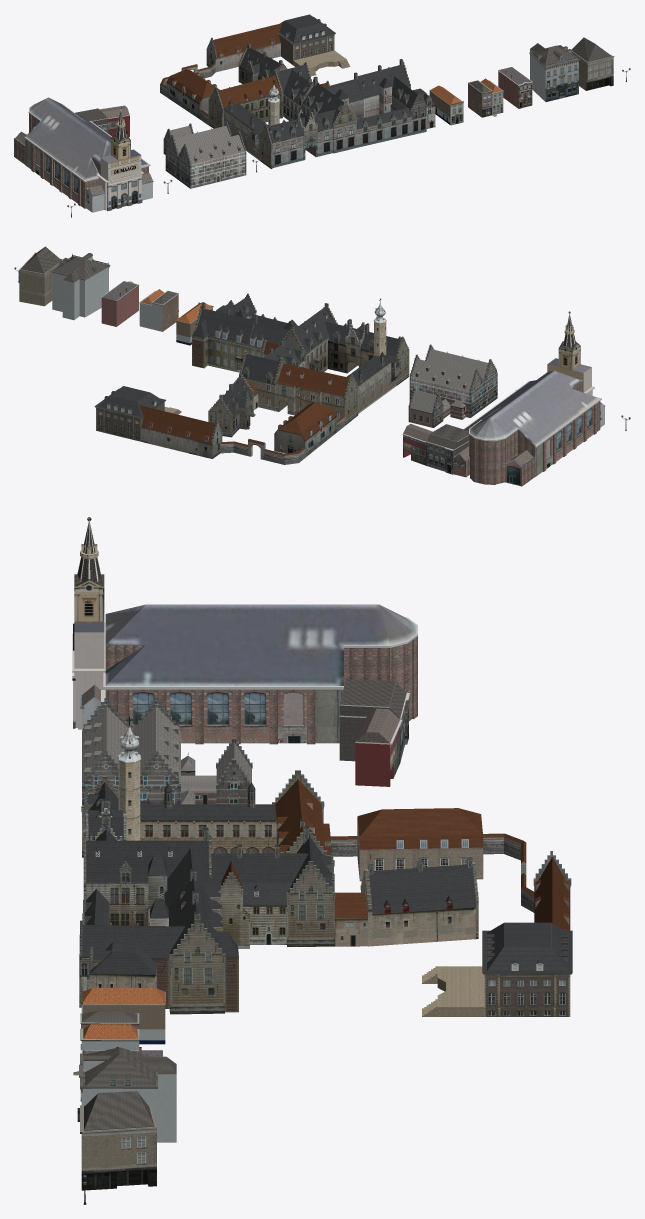
Rendered from european_buildings_asset_pack_1.glb.
The picture shows the model from 3 angles, top to bottom: view 1: azimuth 30°, elevation 25°; view 2: azimuth 150°, elevation 25°; view 3: azimuth 270°, elevation 25°; orthographic projection. The views are drawn at different scales.
Visible parts, largest first — view 1: group_7_471, group_1.015_267, instance_4.005_108, group_5_377, instance_4_103, instance_17_47, group_1.032_284, group_4_324, group_5.004_381, group_3_319, group_3.002_321, group_5.006_383 (+6 smaller); view 2: group_7_471, group_1.015_267, group_1.003_255, group_5.006_383, instance_17_47, group_3.003_322, group_2_298, instance_4_103, group_5.004_381, instance_17.005_52, group_1.023_275, group_4.005_329 (+8 smaller); view 3: group_7_471, group_1.015_267, group_5.004_381, group_1.003_255, group_3.002_321, group_3.003_322, group_5.006_383, group_3_319, instance_17_47, instance_4_103, group_1.006_258, instance_26_46 (+13 smaller).
Boxes of the visible parts, <box> form: group_7_471: <box>160,14,435,168</box>; group_1.015_267: <box>25,97,147,179</box>; instance_4.005_108: <box>191,152,244,188</box>; group_5_377: <box>529,45,579,101</box>; instance_4_103: <box>187,134,244,164</box>; instance_17_47: <box>174,125,230,153</box>; group_1.032_284: <box>108,155,141,180</box>; group_4_324: <box>468,83,492,117</box>; group_5.004_381: <box>530,43,577,66</box>; group_3_319: <box>587,58,613,86</box>; group_3.002_321: <box>571,37,611,61</box>; group_5.006_383: <box>530,49,545,101</box>; group_7_471: <box>94,293,409,464</box>; group_1.015_267: <box>466,370,599,445</box>; group_1.003_255: <box>464,422,534,486</box>; group_5.006_383: <box>52,267,108,320</box>; instance_17_47: <box>411,359,474,391</box>; group_3.003_322: <box>19,260,63,306</box>; group_2_298: <box>101,286,138,326</box>; instance_4_103: <box>427,349,488,379</box>; group_5.004_381: <box>53,253,107,282</box>; instance_17.005_52: <box>410,377,469,403</box>; group_1.023_275: <box>426,441,452,474</box>; group_4.005_329: <box>139,302,162,331</box>; group_7_471: <box>79,760,572,1016</box>; group_1.015_267: <box>105,604,416,685</box>; group_5.004_381: <box>83,1047,176,1086</box>; group_1.003_255: <box>344,640,412,720</box>; group_3.002_321: <box>84,1091,154,1130</box>; group_3.003_322: <box>81,1132,156,1170</box>; group_5.006_383: <box>81,1074,176,1142</box>; group_3_319: <box>81,1127,156,1190</box>; instance_17_47: <box>132,706,180,782</box>; instance_4_103: <box>82,706,128,782</box>; group_1.006_258: <box>355,743,393,786</box>; instance_26_46: <box>140,751,180,804</box>.
Bounding box in the file's own units: 215 × 35.61 × 82.64.
95 materials, 88 textured.
